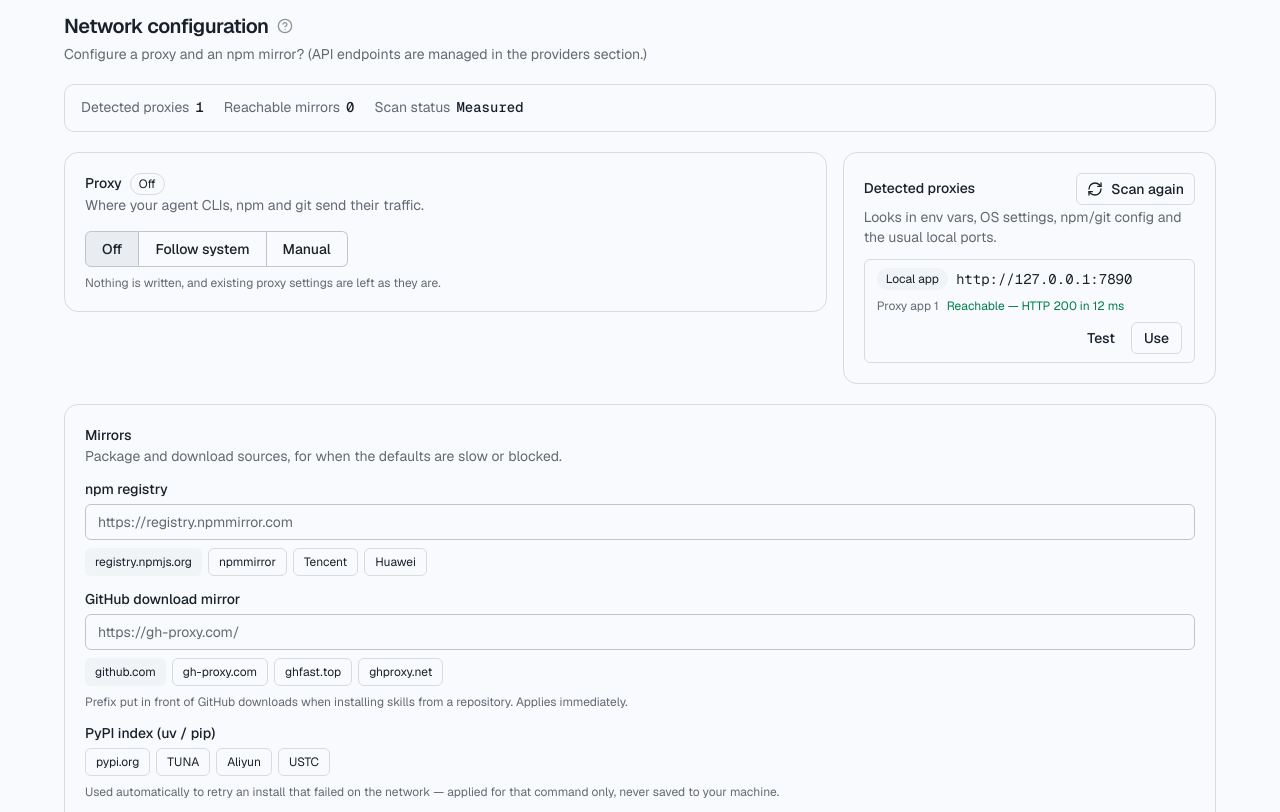
it: adopts a discovered proxy into the form, filling both schemes
This screenshot has width=1280, height=812.
Click the button "Use".
click(1156, 338)  # box [1131,322,1182,354]
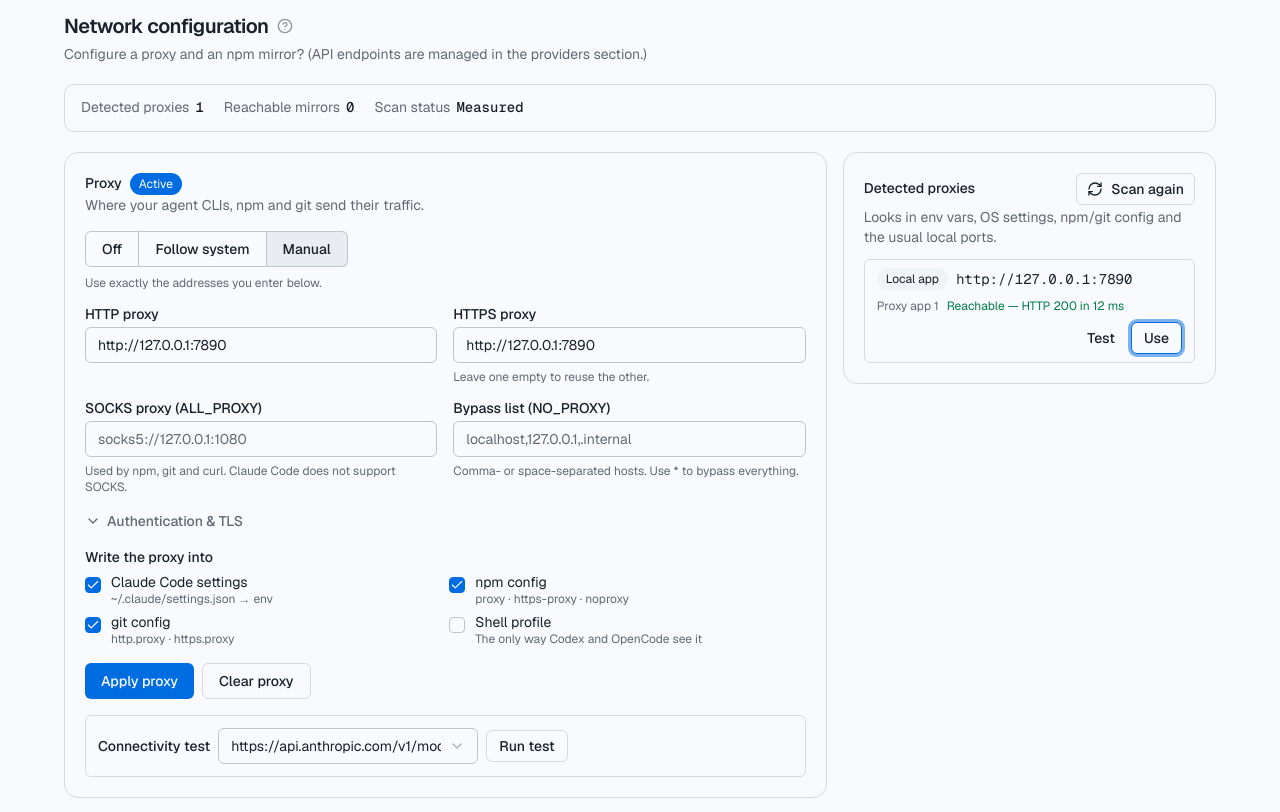
Expected: the field labelled "HTTP proxy" holds "http://127.0.0.1:7890", [85,327,437,363]
